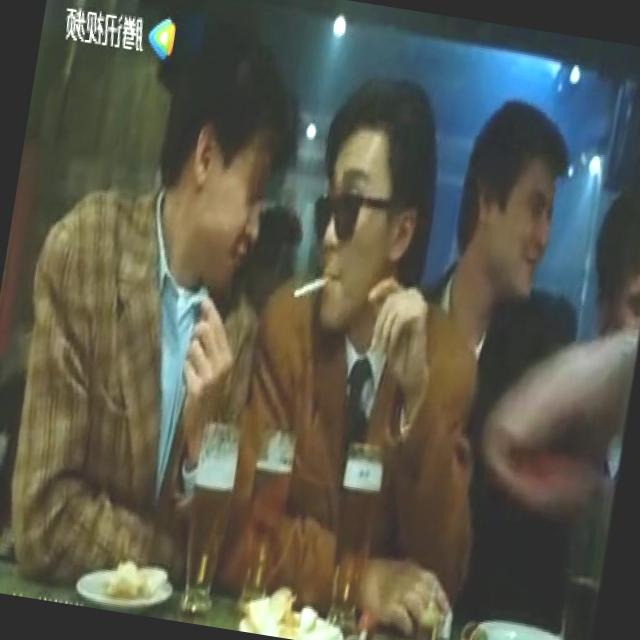smoke: (286, 258, 338, 306)
